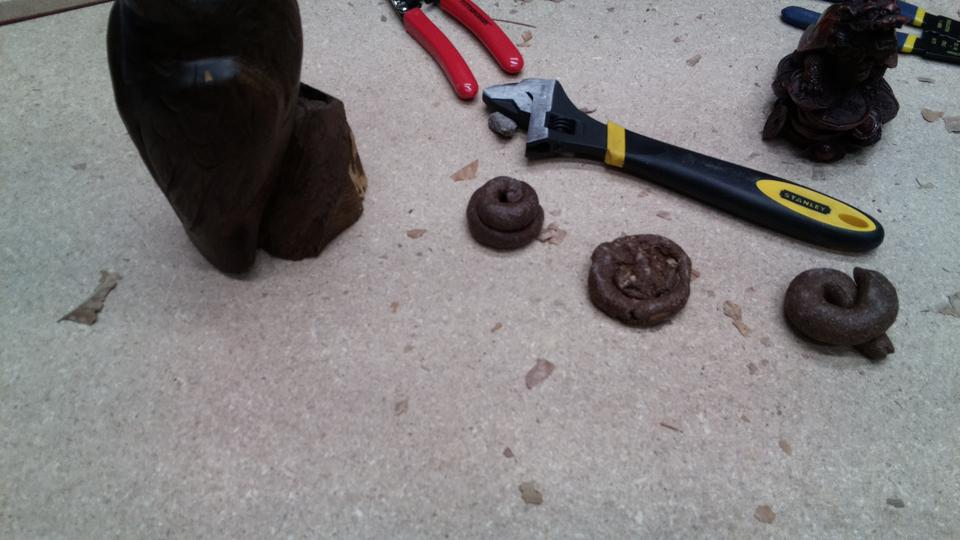poop: (780, 262, 904, 365), (585, 230, 694, 333), (462, 173, 547, 254)
